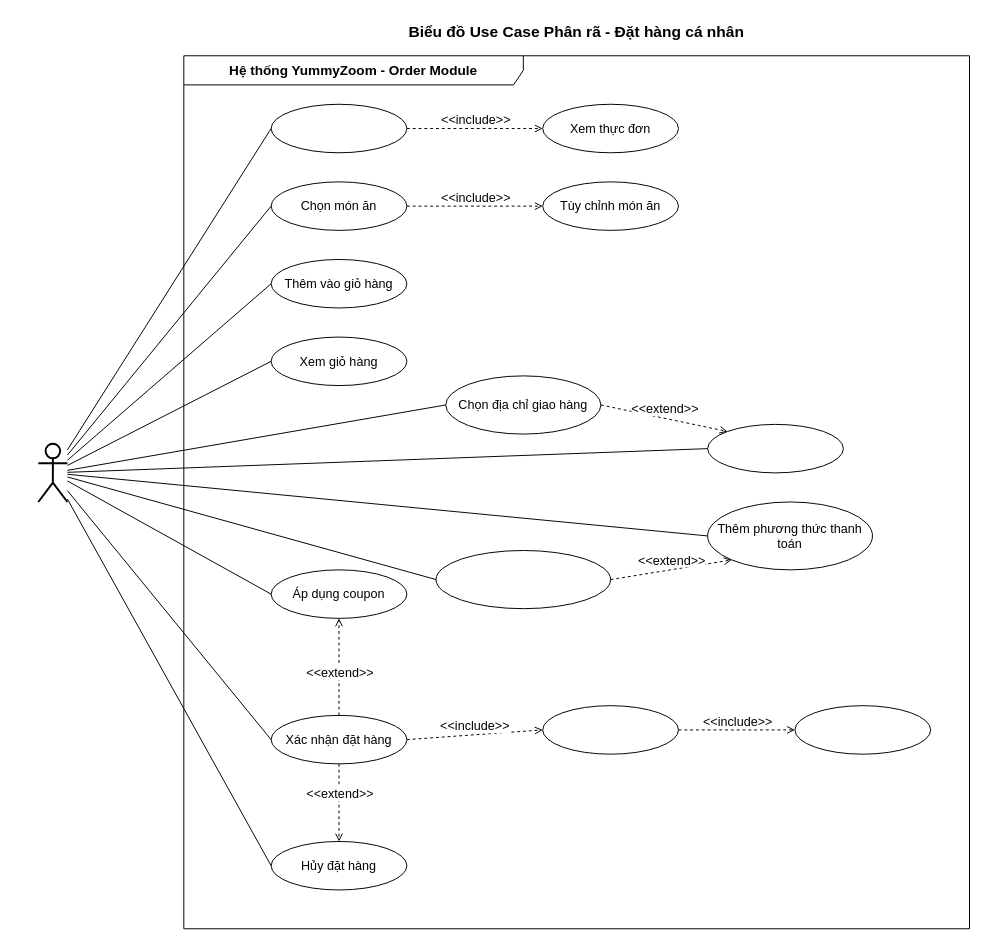
Image size: 986x946. Some labels were removed from this diagram. Each missing label, with the centre of its shape:
"Chọn nhà hàng" goes at [338,128].
"Chọn phương thức thanh toán" goes at [523,579].
"Khách hàng (Customer)" goes at [52,472].
"Lưu địa chỉ mới" goes at [775,448].
"Tạo đơn hàng" goes at [862,729].
"Xử lý thanh toán" goes at [610,729].
